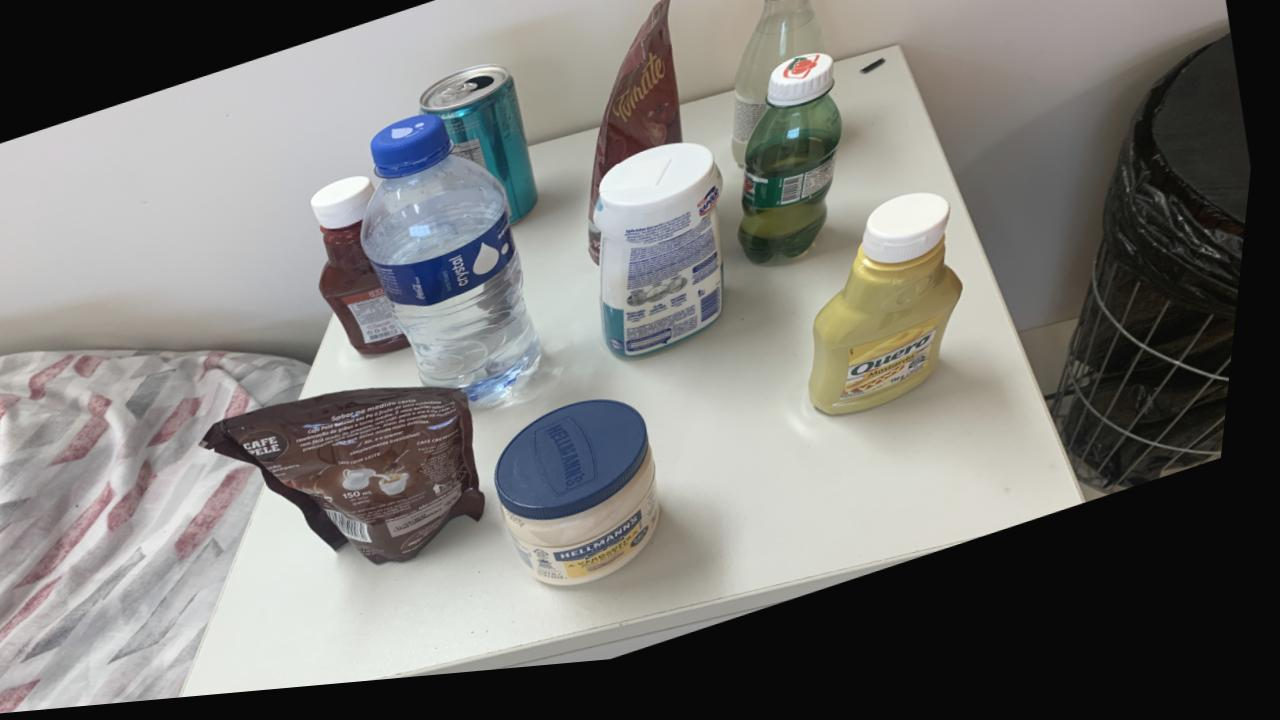Cleaner-Cleanup_Items: (601, 156, 732, 370)
Coffee-Pantry_Items: (211, 395, 498, 572)
Guarana-Drinks: (745, 67, 847, 279)
Ketchup-Pantry_Items: (316, 183, 418, 363)
Mayonnaise-Pantry_Items: (506, 411, 673, 598)
Mustard-Pantry_Items: (818, 211, 971, 431)
Soda-Drinks: (735, 0, 829, 181)
Tea-Drinks: (423, 73, 543, 233)
Tomato_Sauce-Pantry_Items: (594, 0, 687, 273)
Water_Bottle-Drinks: (366, 122, 549, 413)
